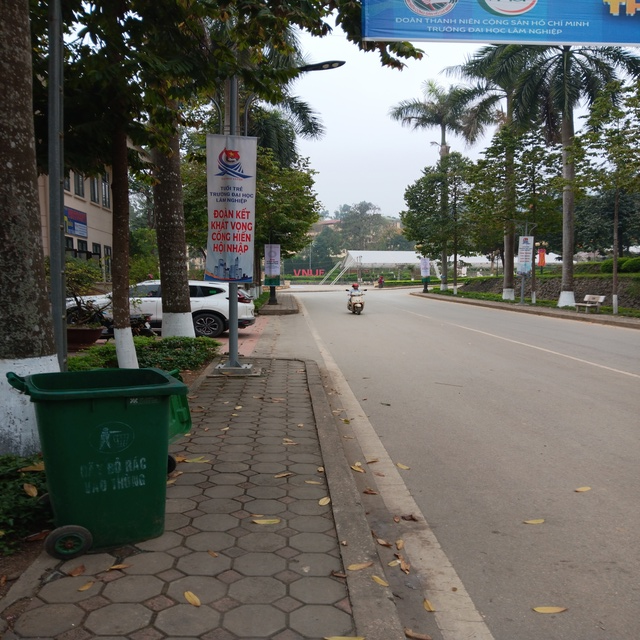thungrac: (16, 351, 174, 560)
